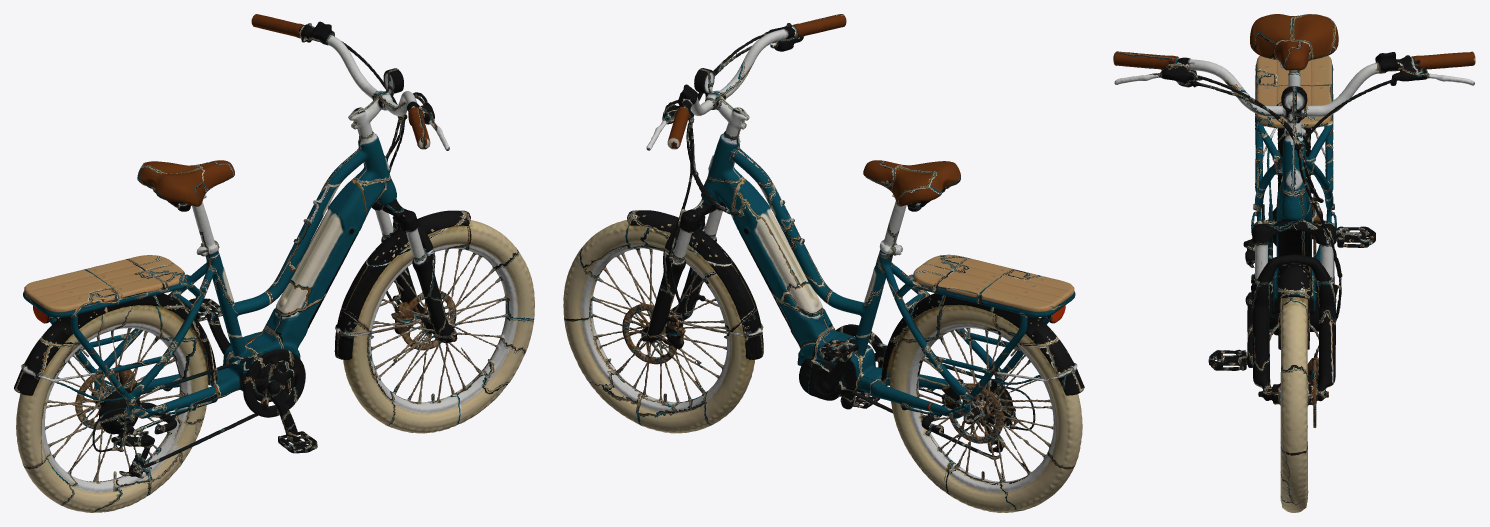
File: electric-bicycle.glb
The picture shows the model from 3 angles, left to right: view 1: azimuth 30°, elevation 25°; view 2: azimuth 150°, elevation 25°; view 3: azimuth 270°, elevation 25°; orthographic projection. The views are drawn at different scales.
Visible parts, largest first — view 1: tripo_node_173dd0e9-425e-4668-b7f3-f179e7a8b4d2; view 2: tripo_node_173dd0e9-425e-4668-b7f3-f179e7a8b4d2; view 3: tripo_node_173dd0e9-425e-4668-b7f3-f179e7a8b4d2.
Part boxes in pixels (box(x1,y1,x2,y2)): tripo_node_173dd0e9-425e-4668-b7f3-f179e7a8b4d2: box(14, 14, 534, 512); tripo_node_173dd0e9-425e-4668-b7f3-f179e7a8b4d2: box(563, 14, 1084, 512); tripo_node_173dd0e9-425e-4668-b7f3-f179e7a8b4d2: box(1113, 14, 1475, 512).
Size of the model in its own units: 1.6 by 1.16 by 0.9181.
1 material, 1 textured.
